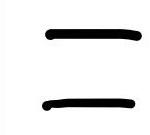eqv: (41, 28, 142, 112)
